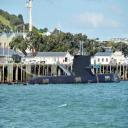submarine: (25, 53, 122, 86)
